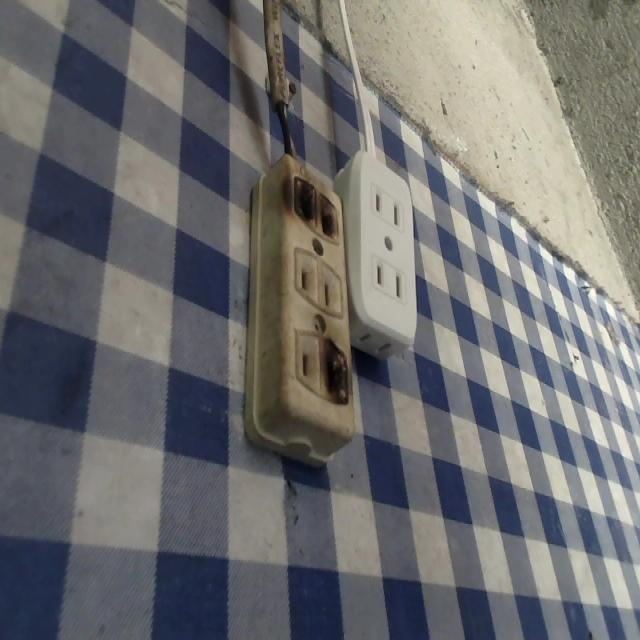-: (287, 172, 347, 248), (317, 336, 355, 411)
